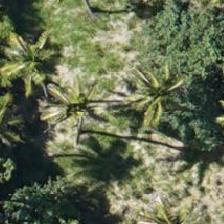coconut_tree: (112, 54, 202, 144), (0, 17, 68, 107), (131, 176, 221, 223)
